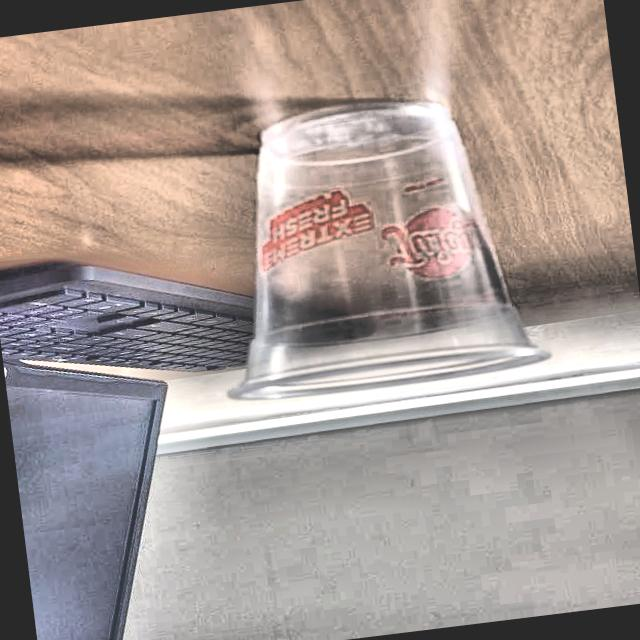plastic cup: (185, 82, 552, 411)
